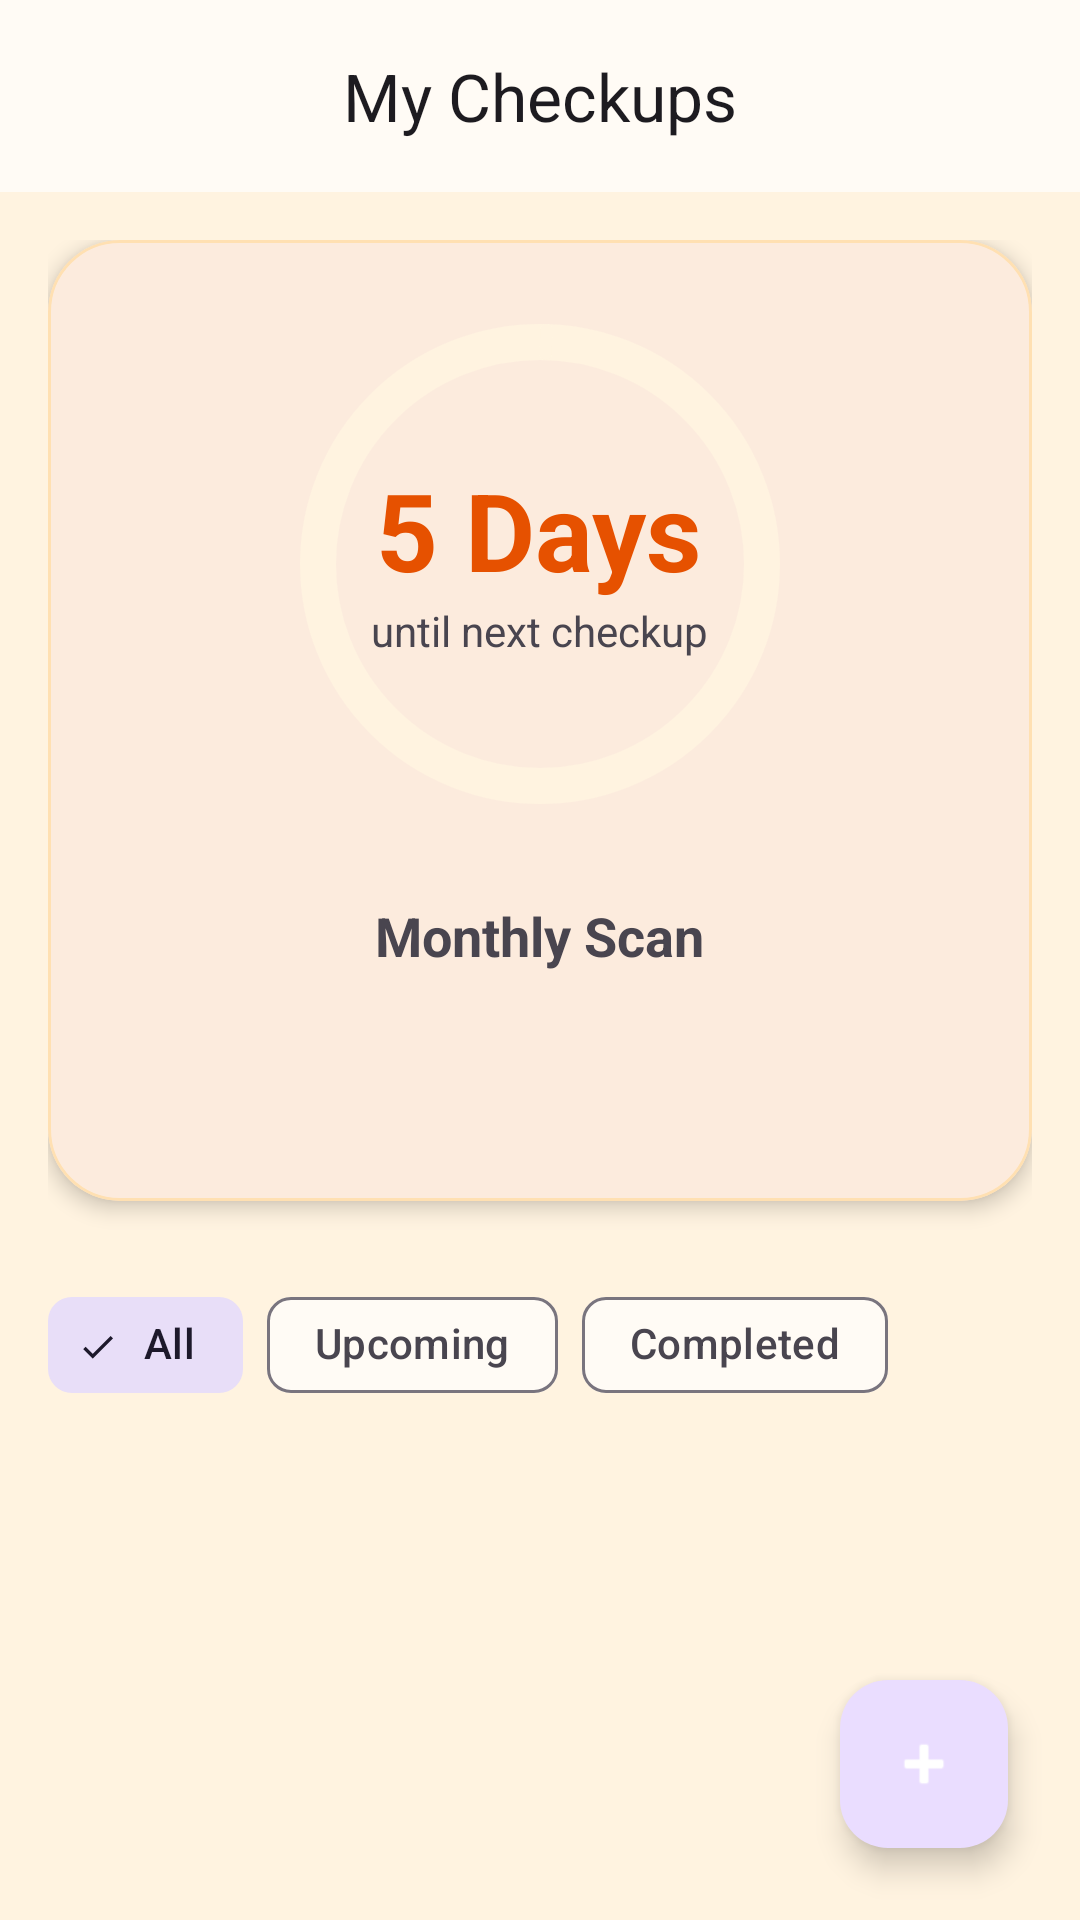

Icon bounding boxes for this 1080×1920 phone screenshot, format (x1, y1, x2, y2):
Add Checkup: (840, 1680, 1008, 1848)
